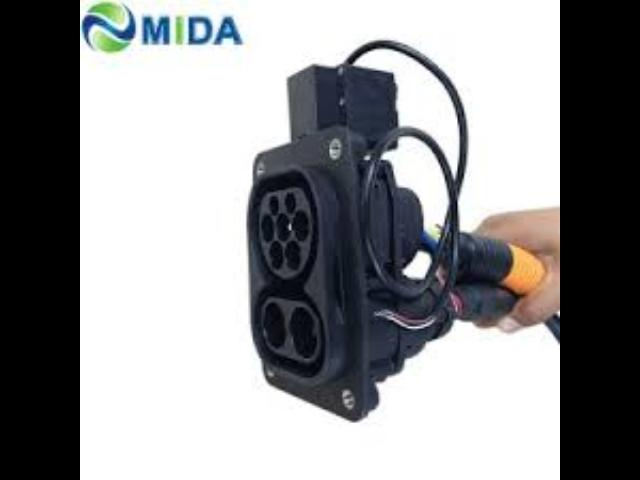inlet: (259, 188, 311, 279)
inlet-above-left: (269, 195, 279, 216)
inlet-above-right: (284, 193, 295, 214)
inlet-below-left: (270, 241, 283, 268)
inlet-below-right: (285, 242, 300, 269)
inlet-circle: (276, 212, 290, 241)
inlet-circle-left: (261, 215, 274, 243)
inlet-circle-right: (295, 211, 309, 239)
inlet-minus: (290, 307, 318, 358)
inlet-plus: (265, 302, 285, 347)
